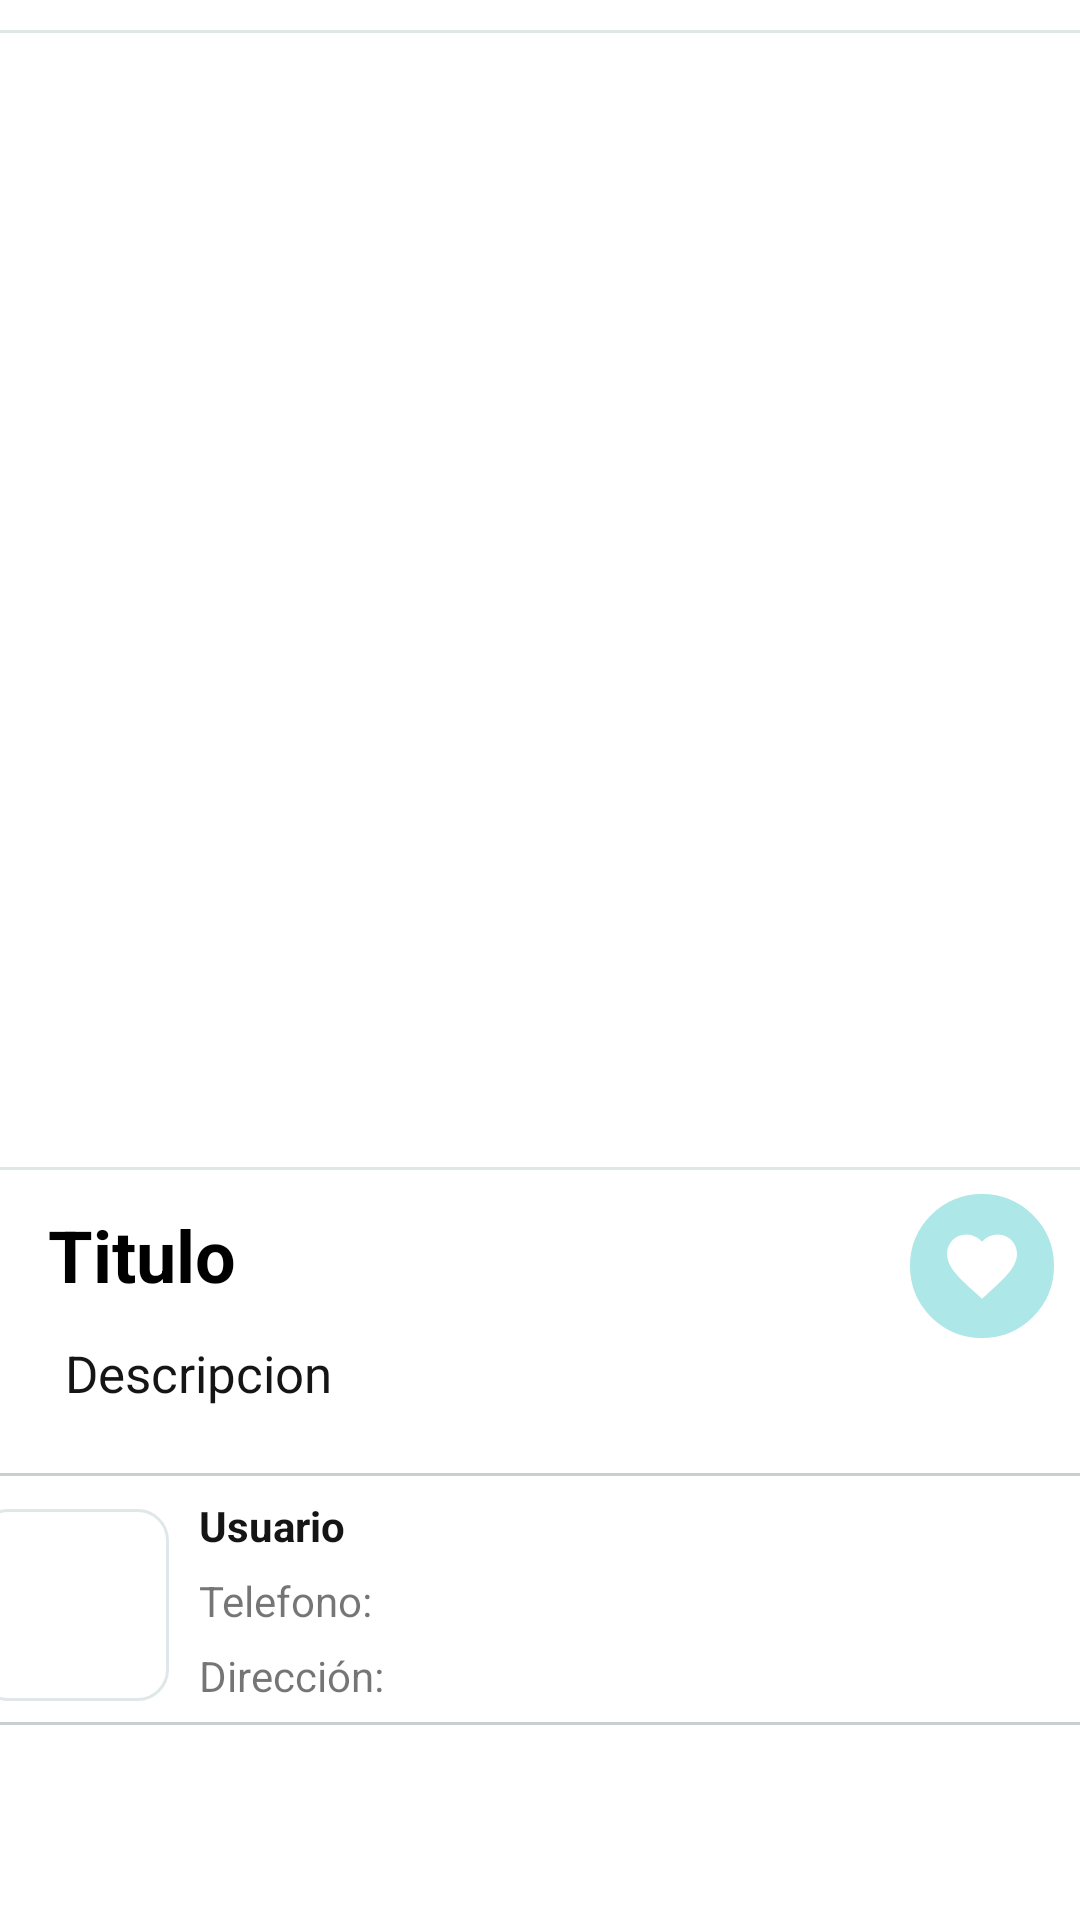

Icon bounding boxes for this 1080 x 1920 phone screenshot, format (x1, y1, x2, y2):
corazon adoptame: (910, 1194, 1054, 1338)
